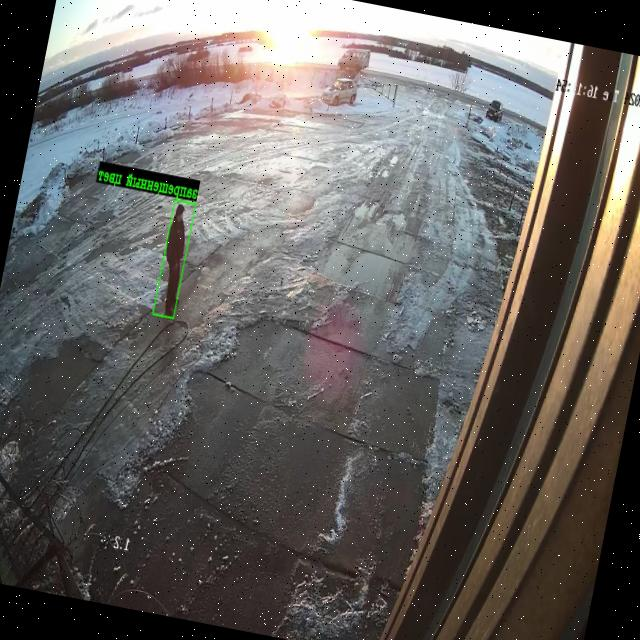Person: (164, 204, 185, 315)
